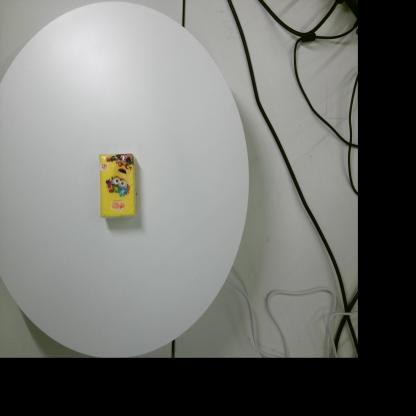Tissue: (99, 154, 136, 218)
